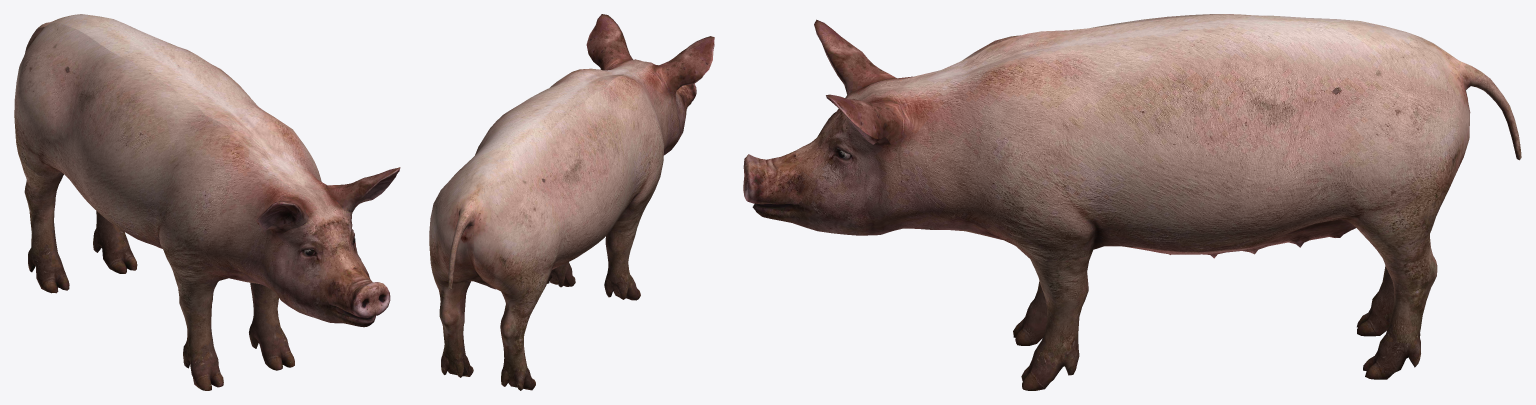
The model's file is piggy.glb.
3 renders of one model, left to right at view 1: azimuth 30°, elevation 25°; view 2: azimuth 150°, elevation 25°; view 3: azimuth 270°, elevation 25°, orthographic. The views are drawn at different scales.
Visible parts, largest first — view 1: ceda_paridera_animal.005; view 2: ceda_paridera_animal.005; view 3: ceda_paridera_animal.005.
Part boxes in pixels (x1,y1,x2,y2): ceda_paridera_animal.005: (14, 14, 400, 390); ceda_paridera_animal.005: (429, 14, 714, 390); ceda_paridera_animal.005: (743, 14, 1521, 390).
Size of the model in its own units: 2.07 by 3.25 by 6.87.
1 material, 1 textured.
